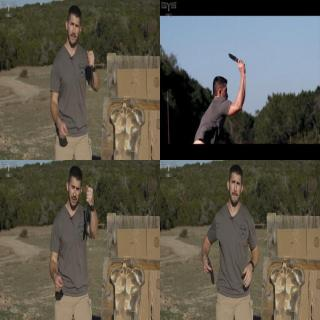knife: (202, 255, 215, 287), (83, 185, 93, 225), (85, 49, 95, 88), (227, 50, 245, 68)
